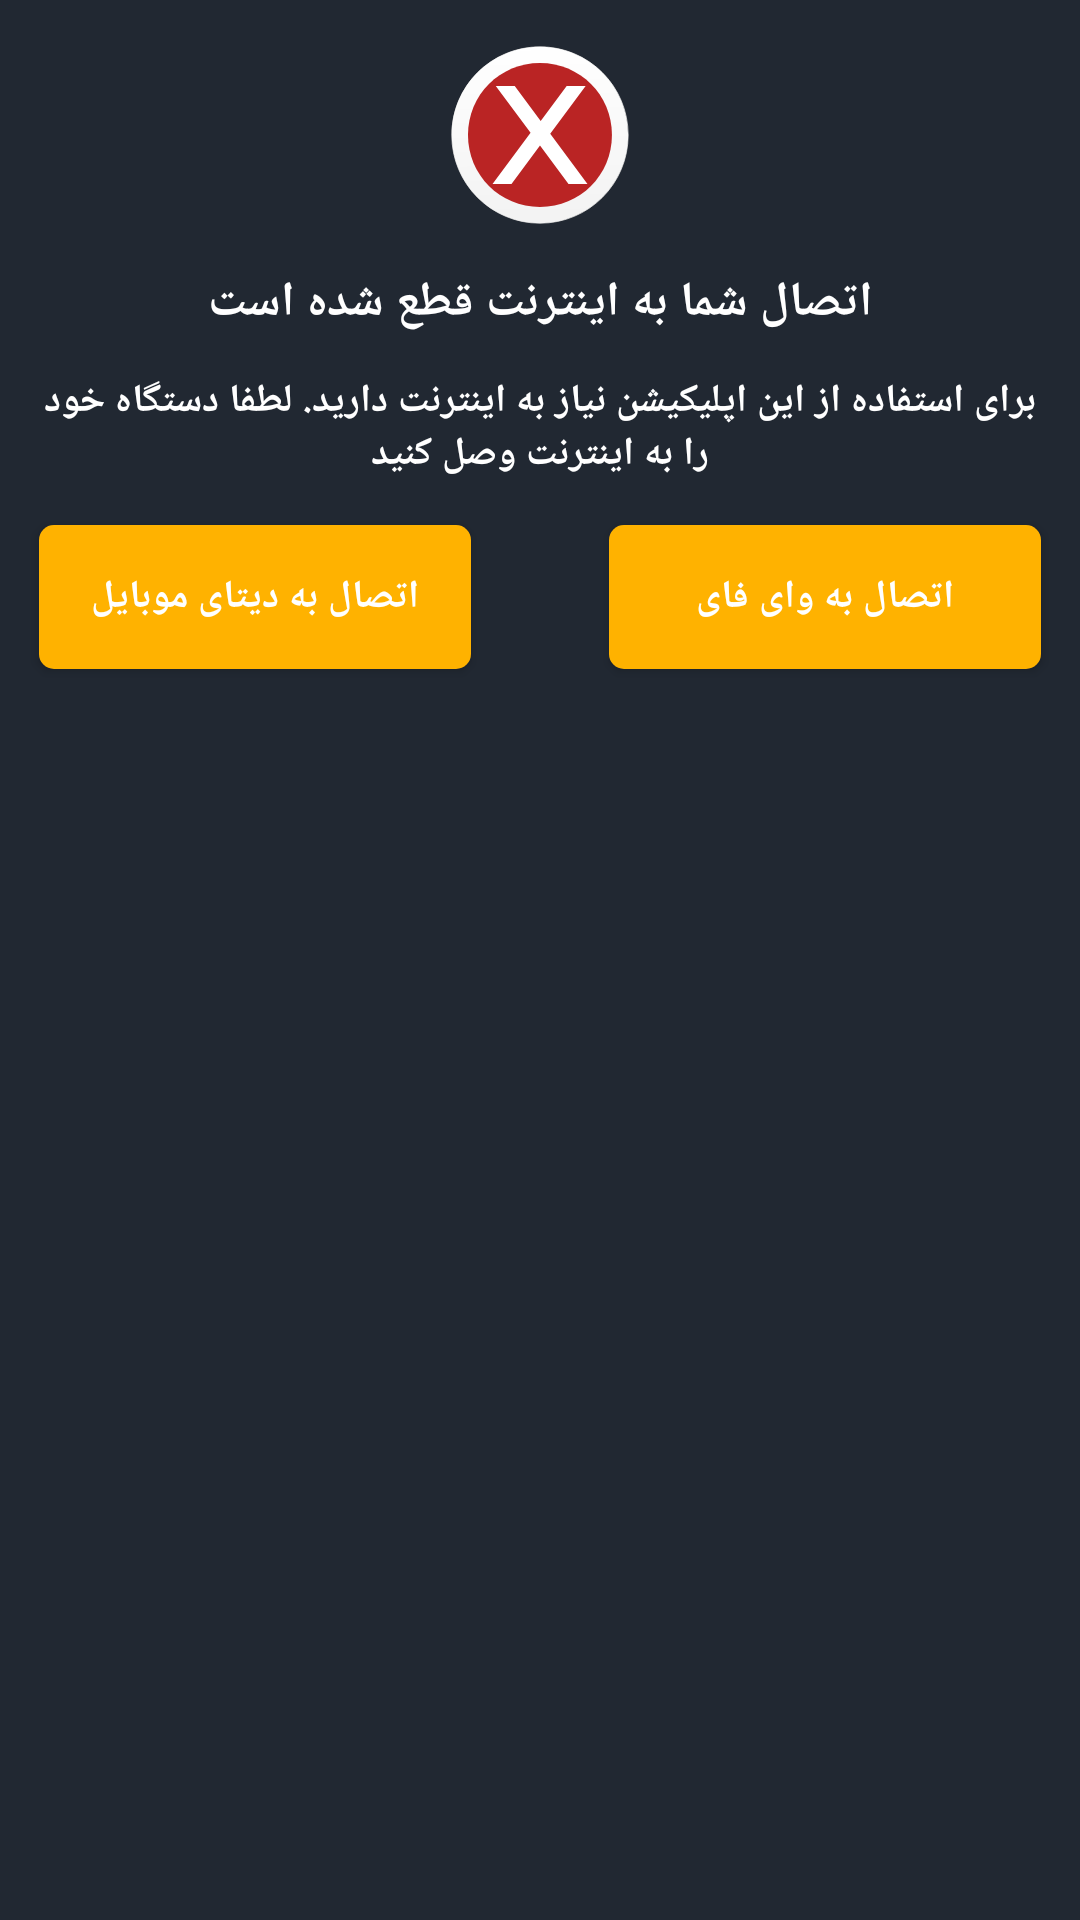

Icon bounding boxes for this 1080×1920 phone screenshot, format (x1, y1, x2, y2):
no internet: (451, 46, 629, 224)
